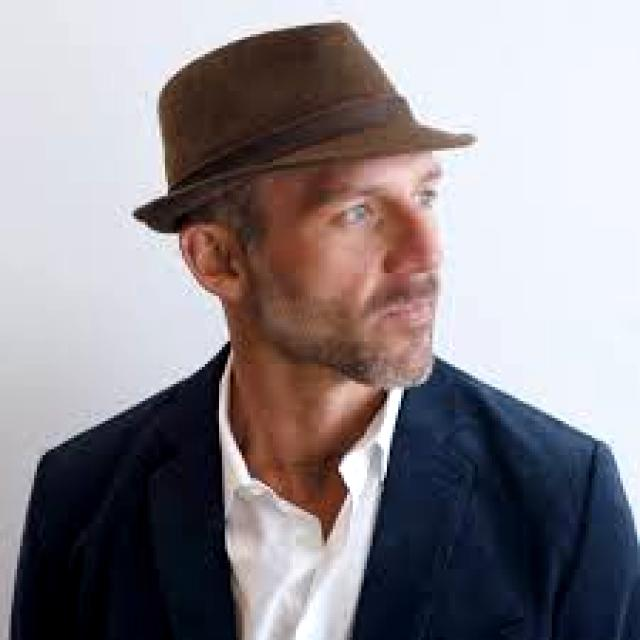hat: (134, 23, 475, 233)
